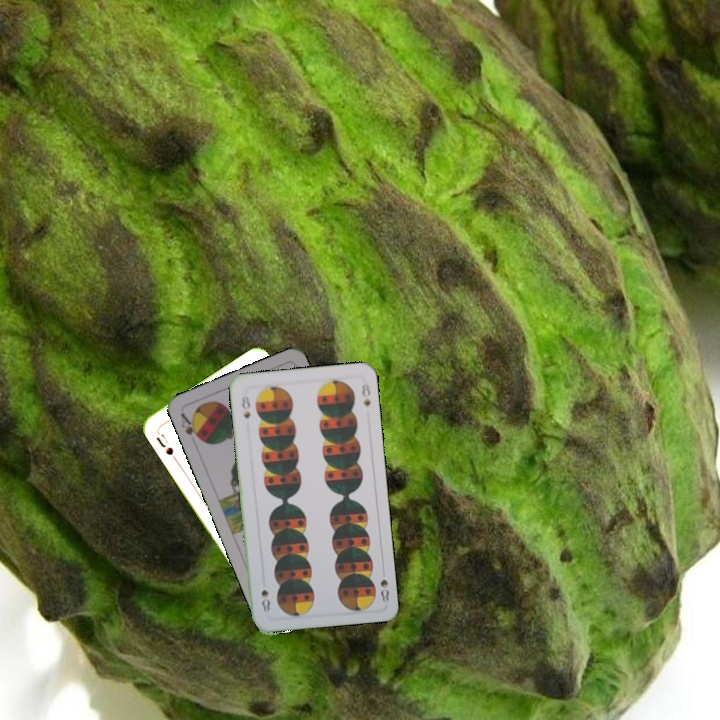S8: (376, 564, 391, 604), (237, 391, 253, 421)
SA: (176, 409, 205, 444)
SU: (152, 426, 179, 463)
